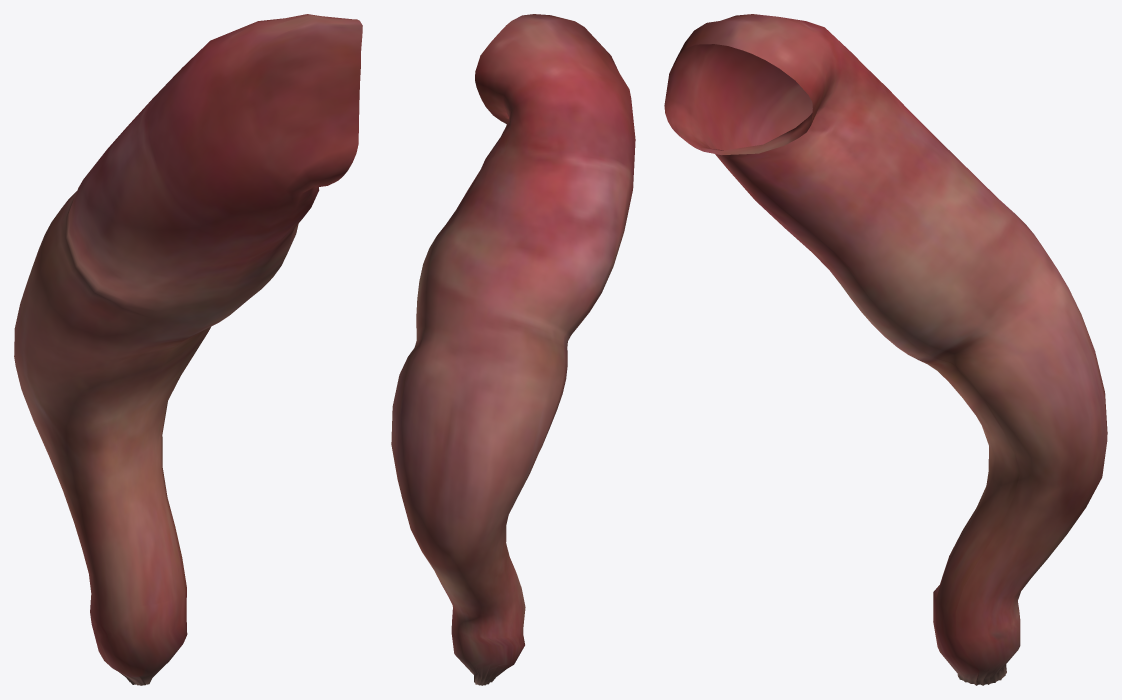
Rendered from 1.7 Rectum.glb.
3 views of the same model, side by side, from view 1: azimuth 30°, elevation 25°; view 2: azimuth 150°, elevation 25°; view 3: azimuth 270°, elevation 25° (orthographic). The views are drawn at different scales.
Visible parts, largest first — view 1: Large_Intestine; view 2: Large_Intestine; view 3: Large_Intestine.
Part boxes in pixels (x1,y1,x2,y2): Large_Intestine: (14, 14, 362, 685); Large_Intestine: (391, 14, 635, 685); Large_Intestine: (664, 14, 1107, 685).
Size of the model in its own units: 0.0515 by 0.1755 by 0.1029.
Materials: 1 (1 with a texture image).
